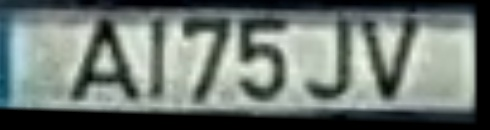5: (237, 17, 294, 107)
7: (180, 16, 237, 109)
A: (63, 17, 148, 105)
I: (146, 17, 170, 105)
J: (303, 15, 357, 107)
V: (357, 18, 426, 107)
